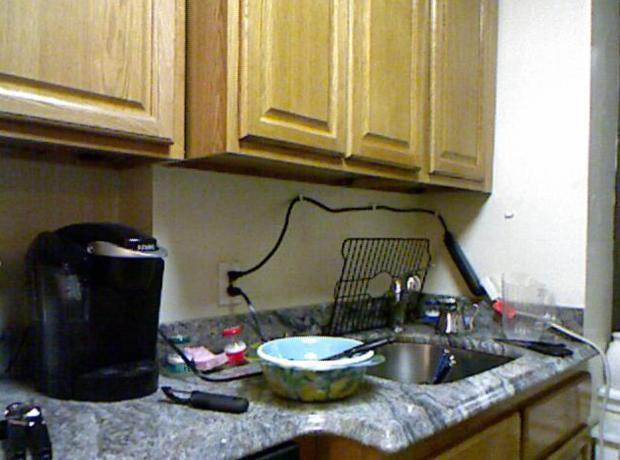Lavaplatos: (293, 258, 525, 403)
